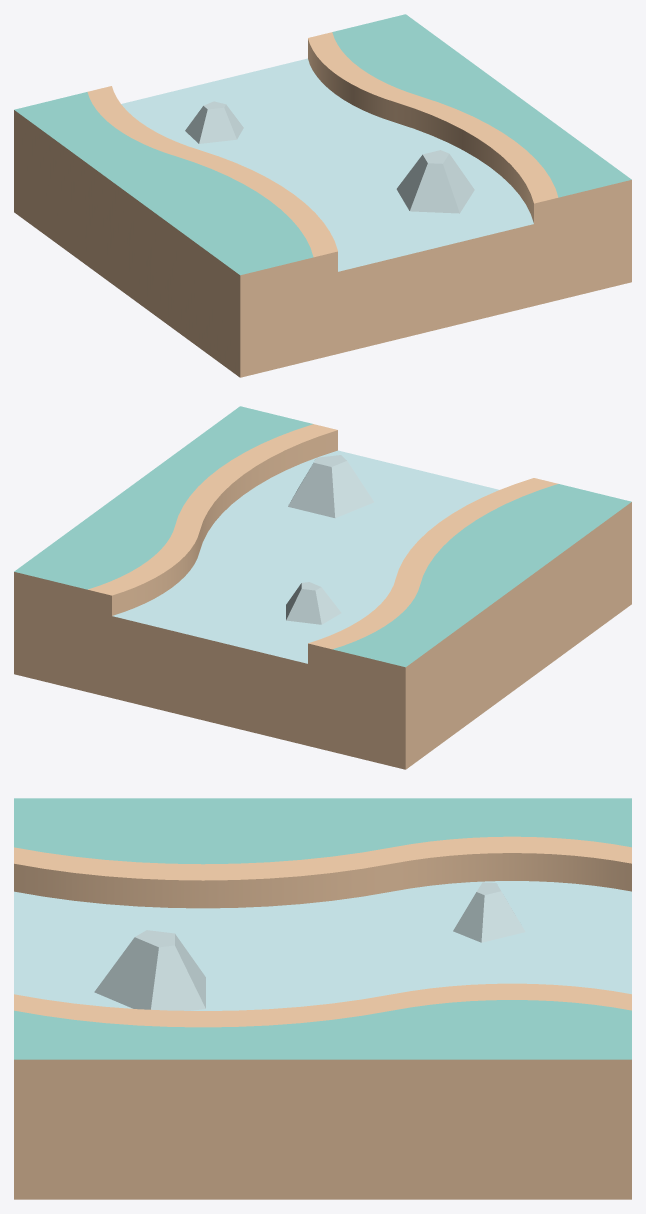
Rendered from ground_dirtRiverRocks.glb.
3 renders of one model, top to bottom at view 1: azimuth 30°, elevation 25°; view 2: azimuth 150°, elevation 25°; view 3: azimuth 270°, elevation 25°, orthographic. The views are drawn at different scales.
Parts seen in each view (by area): view 1: ground_dirtRiverRocks; view 2: ground_dirtRiverRocks; view 3: ground_dirtRiverRocks.
Part boxes in pixels (x1=…): ground_dirtRiverRocks: x1=14, y1=14, x2=631, y2=377; ground_dirtRiverRocks: x1=14, y1=406, x2=631, y2=769; ground_dirtRiverRocks: x1=14, y1=798, x2=631, y2=1199.
Bounding box in the file's own units: 1 × 0.2961 × 1.
